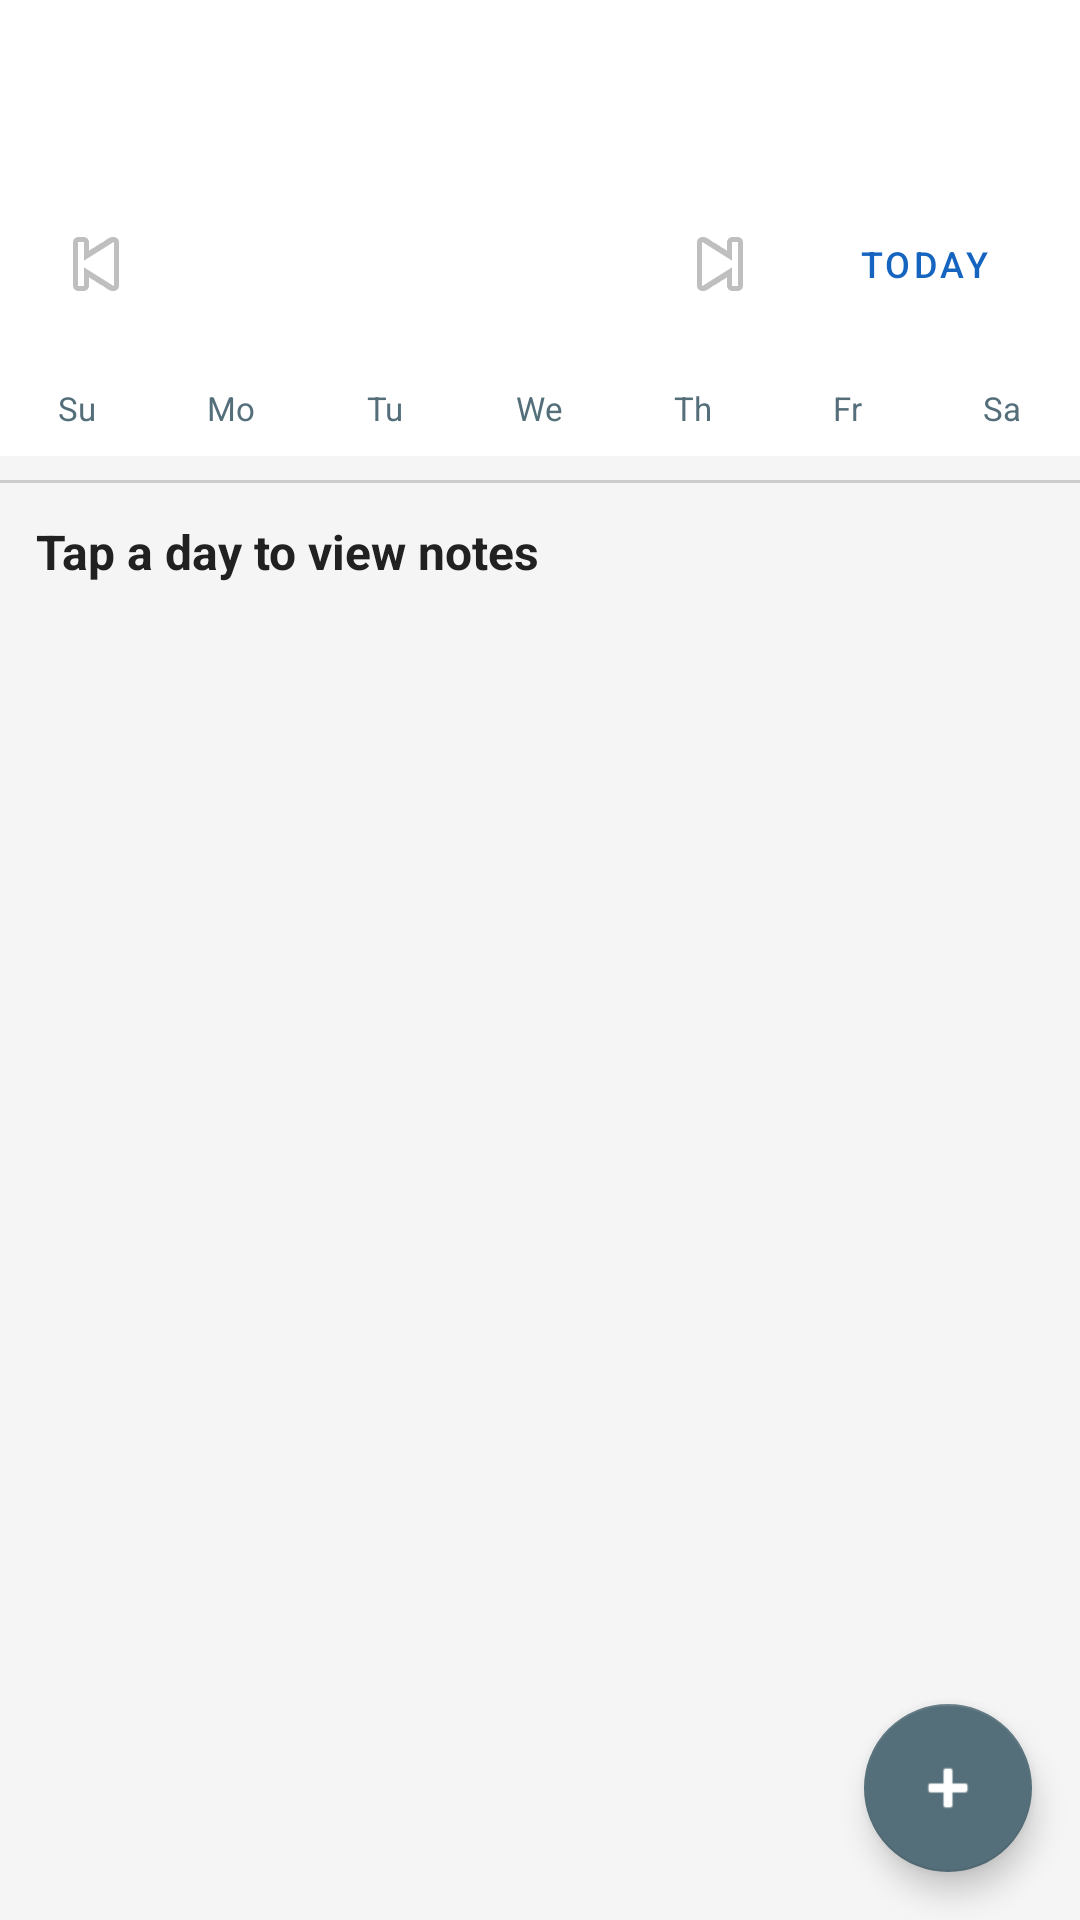

Icon bounding boxes for this 1080*1920 phone screenshot, format (x1, y1, x2, y2):
New note for this day: (864, 1704, 1032, 1872)
Next month: (697, 237, 743, 291)
Previous month: (73, 237, 119, 291)
